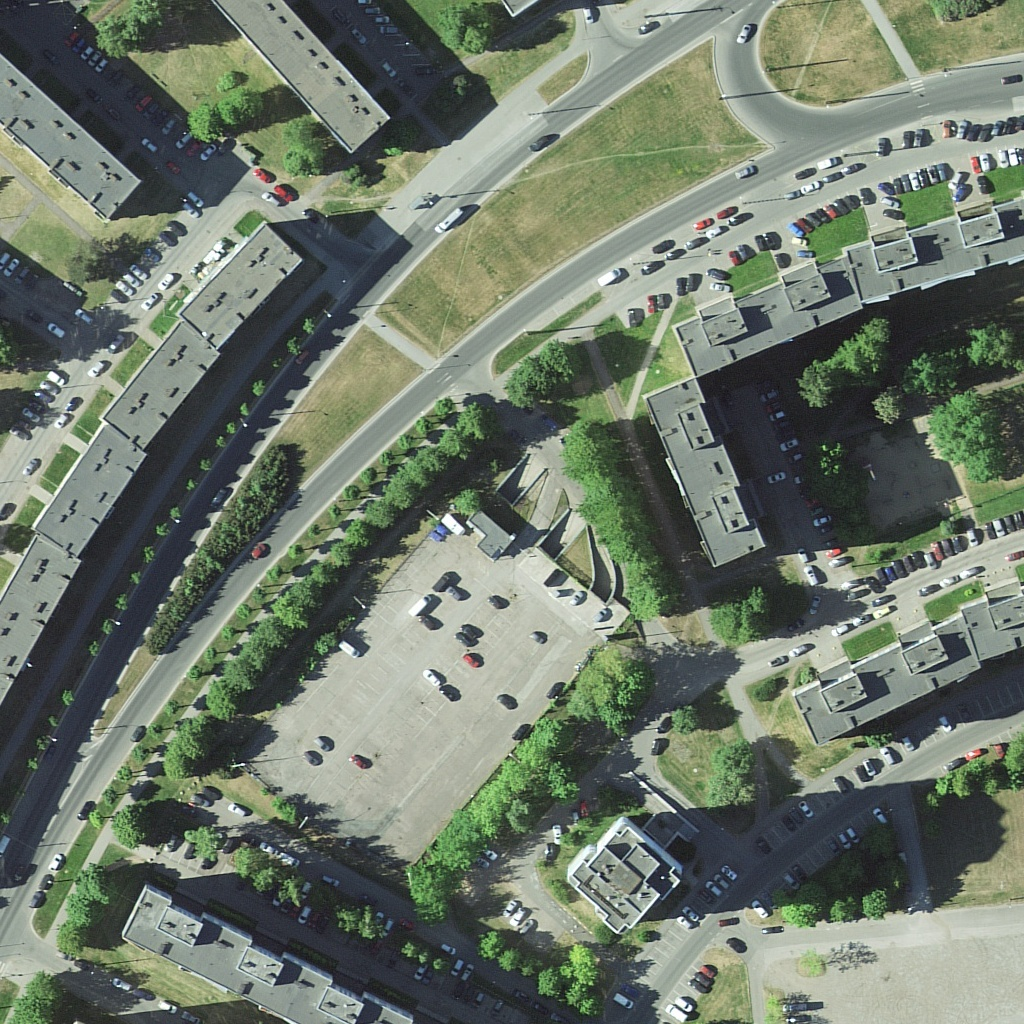building: (125, 890, 403, 1024), (214, 1, 392, 161), (789, 611, 982, 745), (1, 44, 144, 219), (672, 249, 863, 378), (654, 377, 770, 571), (847, 199, 1024, 303), (30, 421, 145, 564), (105, 312, 211, 451), (571, 816, 684, 942), (1, 533, 83, 699), (182, 223, 284, 346)
